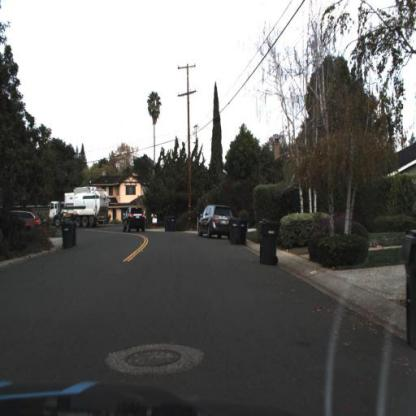car: (197, 205, 228, 239), (123, 206, 148, 236), (19, 206, 44, 233)
truck: (49, 185, 111, 226)
